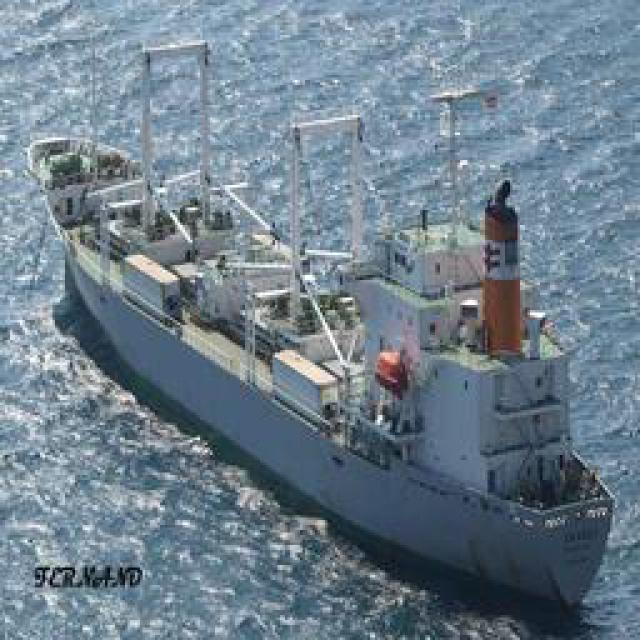Ship: (42, 110, 622, 623)
